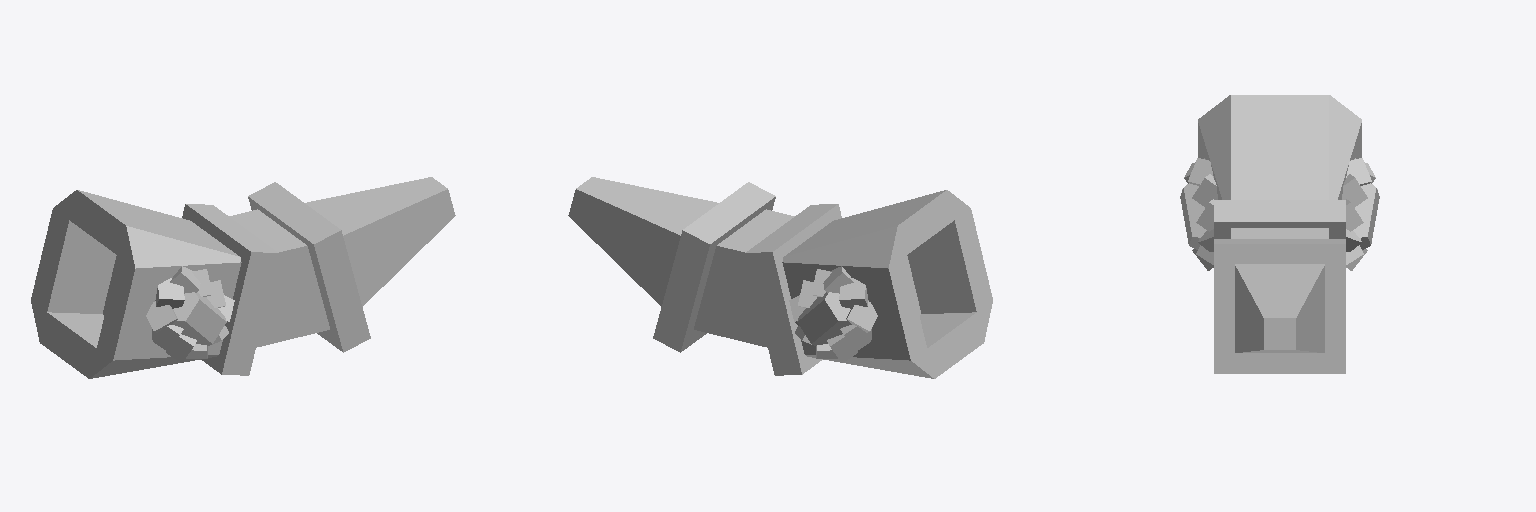
The model's file is horn_arcane.obj.
3 views of the same model, side by side, from view 1: azimuth 30°, elevation 25°; view 2: azimuth 150°, elevation 25°; view 3: azimuth 270°, elevation 25° (orthographic).
Visible parts, largest first — view 1: HORN_END, HORN_START, BRACE_START, BRACE_END, HORN_MID, HORN_EXTRA_ARCANE; view 2: HORN_END, HORN_START, BRACE_START, BRACE_END, HORN_MID, HORN_EXTRA_ARCANE; view 3: HORN_END, BRACE_START, HORN_START, HORN_EXTRA_ARCANE, BRACE_END, HORN_MID.
Boxes of the visible parts, x1=… form: HORN_END: x1=31, y1=190, x2=241, y2=378; HORN_START: x1=305, y1=177, x2=455, y2=306; BRACE_START: x1=248, y1=182, x2=370, y2=352; BRACE_END: x1=182, y1=204, x2=278, y2=375; HORN_MID: x1=229, y1=209, x2=329, y2=347; HORN_EXTRA_ARCANE: x1=146, y1=266, x2=234, y2=362; HORN_END: x1=782, y1=190, x2=992, y2=378; HORN_START: x1=568, y1=177, x2=718, y2=306; BRACE_START: x1=653, y1=182, x2=775, y2=352; BRACE_END: x1=745, y1=204, x2=841, y2=375; HORN_MID: x1=694, y1=209, x2=794, y2=347; HORN_EXTRA_ARCANE: x1=789, y1=266, x2=877, y2=362; HORN_END: x1=1198, y1=95, x2=1361, y2=199; BRACE_START: x1=1214, y1=239, x2=1345, y2=373; HORN_START: x1=1235, y1=264, x2=1324, y2=352; HORN_EXTRA_ARCANE: x1=1180, y1=158, x2=1379, y2=270; BRACE_END: x1=1214, y1=200, x2=1345, y2=238; HORN_MID: x1=1231, y1=228, x2=1328, y2=238.
Bounding box in the file's own units: 0.8375 × 0.3596 × 0.3784.